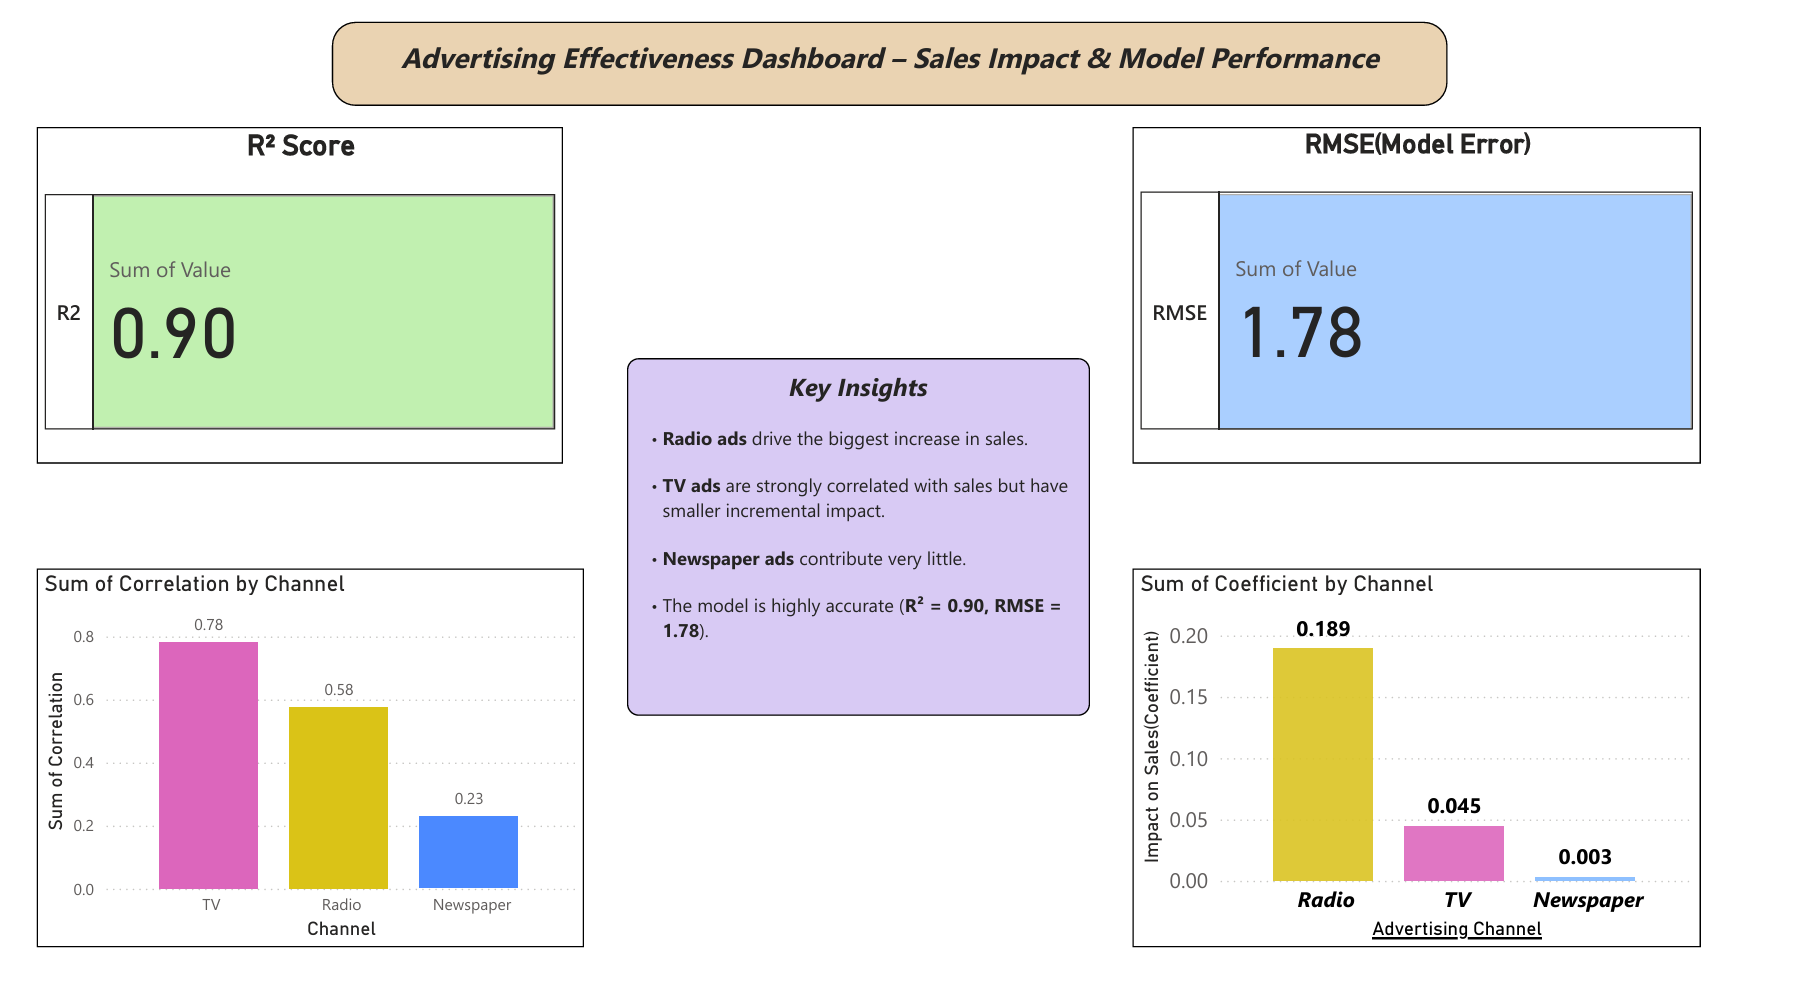

The page's visual inventory and layout, read from the dashboard file:
{"tool":"powerbi","page":{"name":"Page 1","canvas":[1280,720],"ordinal":0},"visuals":[{"type":"clusteredColumnChart","fields":{"Category":["coefficients.Channel"],"Y":["Sum(coefficients.Coefficient)"]},"box":[848,432,432,288],"z":0},{"type":"clusteredColumnChart","fields":{"Category":["correlations.Channel"],"Y":["Sum(correlations.Correlation)"]},"box":[16,432,416,288],"z":1000},{"type":"cardVisual","title":"R² Score","fields":{"Data":["Sum(model_metrics.Value)"],"Rows":["model_metrics.Metric"]},"box":[16,96,400,256],"z":2000},{"type":"cardVisual","title":"RMSE(Model Error)","fields":{"Data":["Sum(model_metrics.Value)"],"Rows":["model_metrics.Metric"]},"box":[848,96,432,256],"z":3000},{"type":"textbox","box":[464,272,352,272],"z":4000},{"type":"textbox","box":[240,16,848,64],"z":4001}]}

Visuals, with their boxes in screenshot pixels (x1, y1, x2, y2), scaled from the page's 1280x720 canvas onto the 1794x1007 screenshot:
clusteredColumnChart - coefficients.Channel x Sum(coefficients.Coefficient): (1189, 604, 1793, 1006)
clusteredColumnChart - correlations.Channel x Sum(correlations.Correlation): (22, 604, 605, 1006)
"R² Score" cardVisual: (22, 134, 583, 492)
"RMSE(Model Error)" cardVisual: (1189, 134, 1793, 492)
textbox: (650, 380, 1144, 761)
textbox: (336, 22, 1525, 112)
